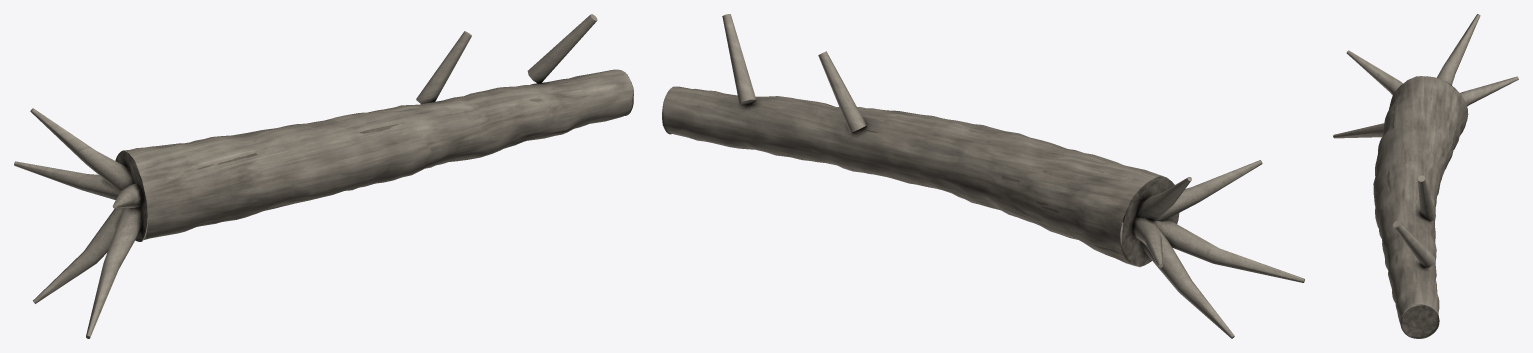
File: costa_tronco_a.glb
3 renders of one model, left to right at view 1: azimuth 30°, elevation 25°; view 2: azimuth 150°, elevation 25°; view 3: azimuth 270°, elevation 25°, orthographic. The views are drawn at different scales.
Visible parts, largest first — view 1: costa_tronco_a_tronco; view 2: costa_tronco_a_tronco; view 3: costa_tronco_a_tronco.
Boxes of the visible parts, <box> form: costa_tronco_a_tronco: <box>14,14,633,338</box>; costa_tronco_a_tronco: <box>662,14,1304,338</box>; costa_tronco_a_tronco: <box>1333,14,1518,338</box>.
Bounding box in the file's own units: 4.36 × 1.26 × 1.41.
1 material, 1 textured.
